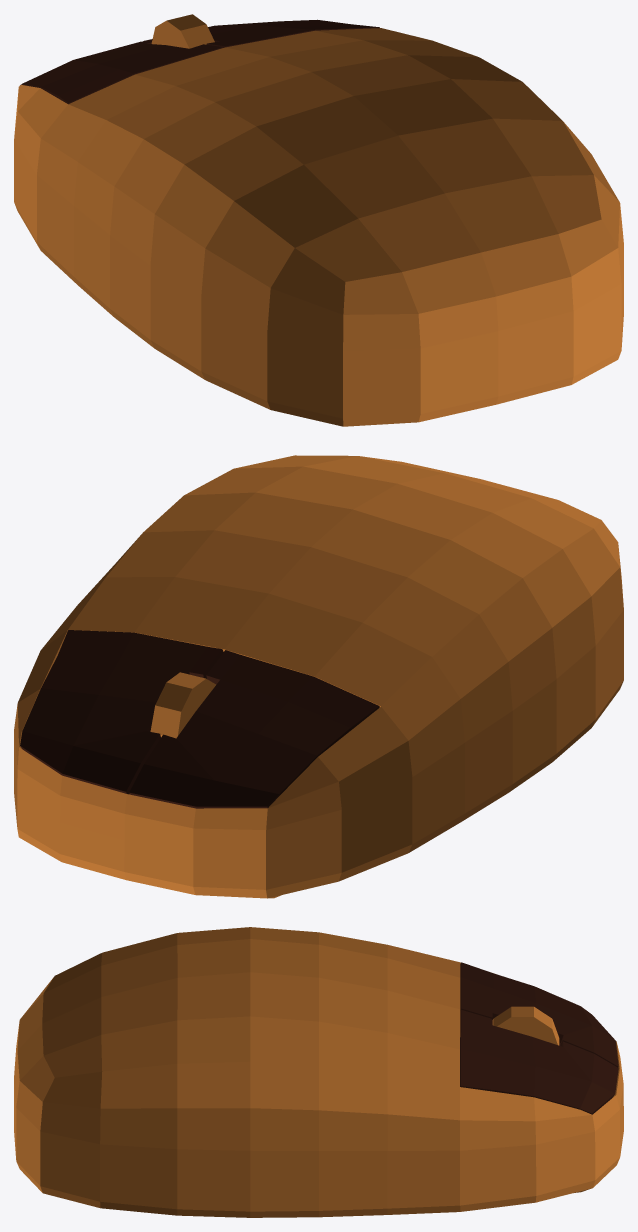
File: Computer Mouse 4.fbx
3 views of the same model, one above another, from view 1: azimuth 30°, elevation 25°; view 2: azimuth 150°, elevation 25°; view 3: azimuth 270°, elevation 25° (orthographic). The views are drawn at different scales.
Visible parts, largest first — view 1: Node 0; view 2: Node 0; view 3: Node 0.
Part boxes in pixels (<box>): Node 0: <box>14,14,623,426</box>; Node 0: <box>14,455,623,898</box>; Node 0: <box>14,927,623,1217</box>.
Bounding box in the file's own units: 0.1195 × 0.0374 × 0.0749.
